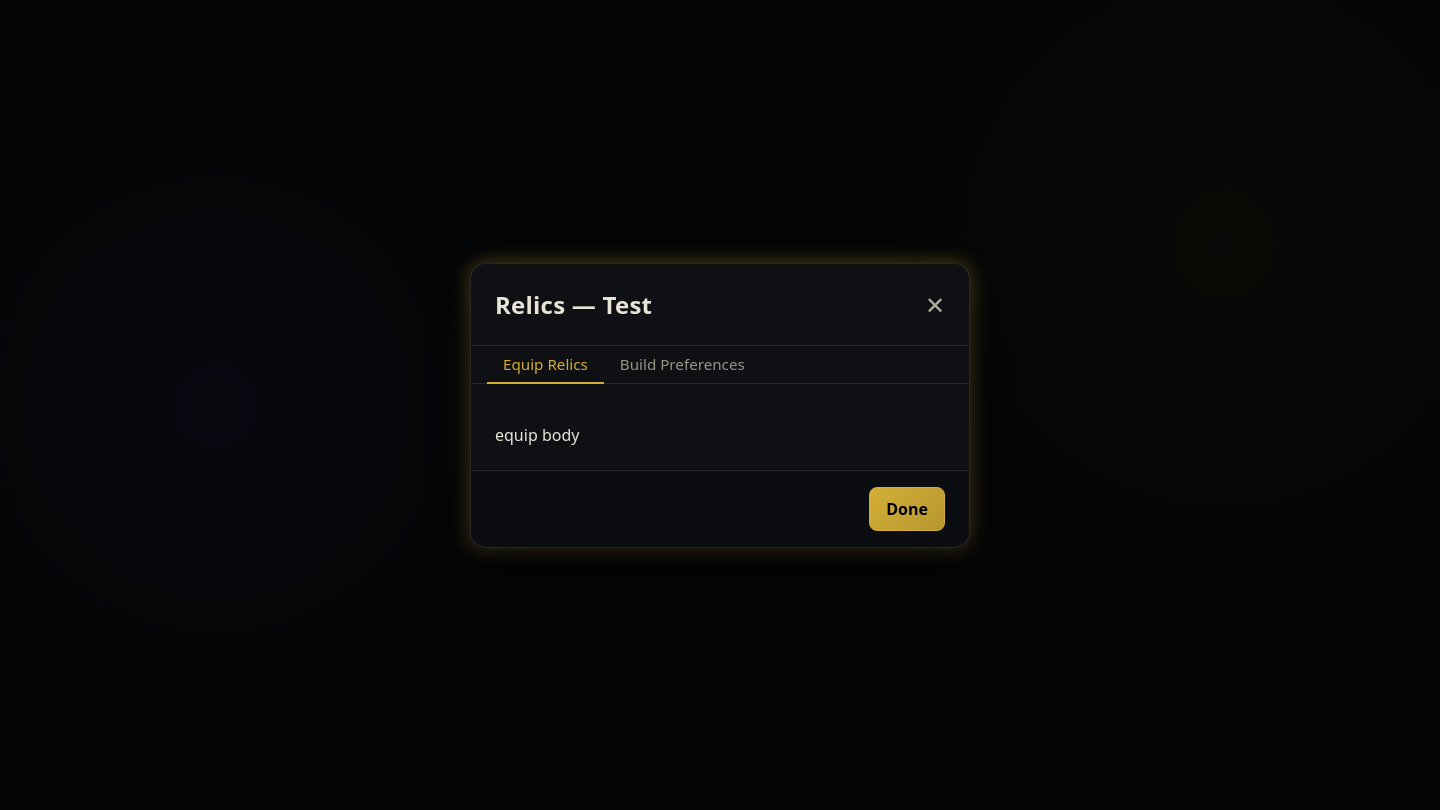
Scenario: EquipmentEditorShell › switching tabs unmounts the inactive content
Click the button "Build Preferences" at (682, 364), box [604,346,761,384]
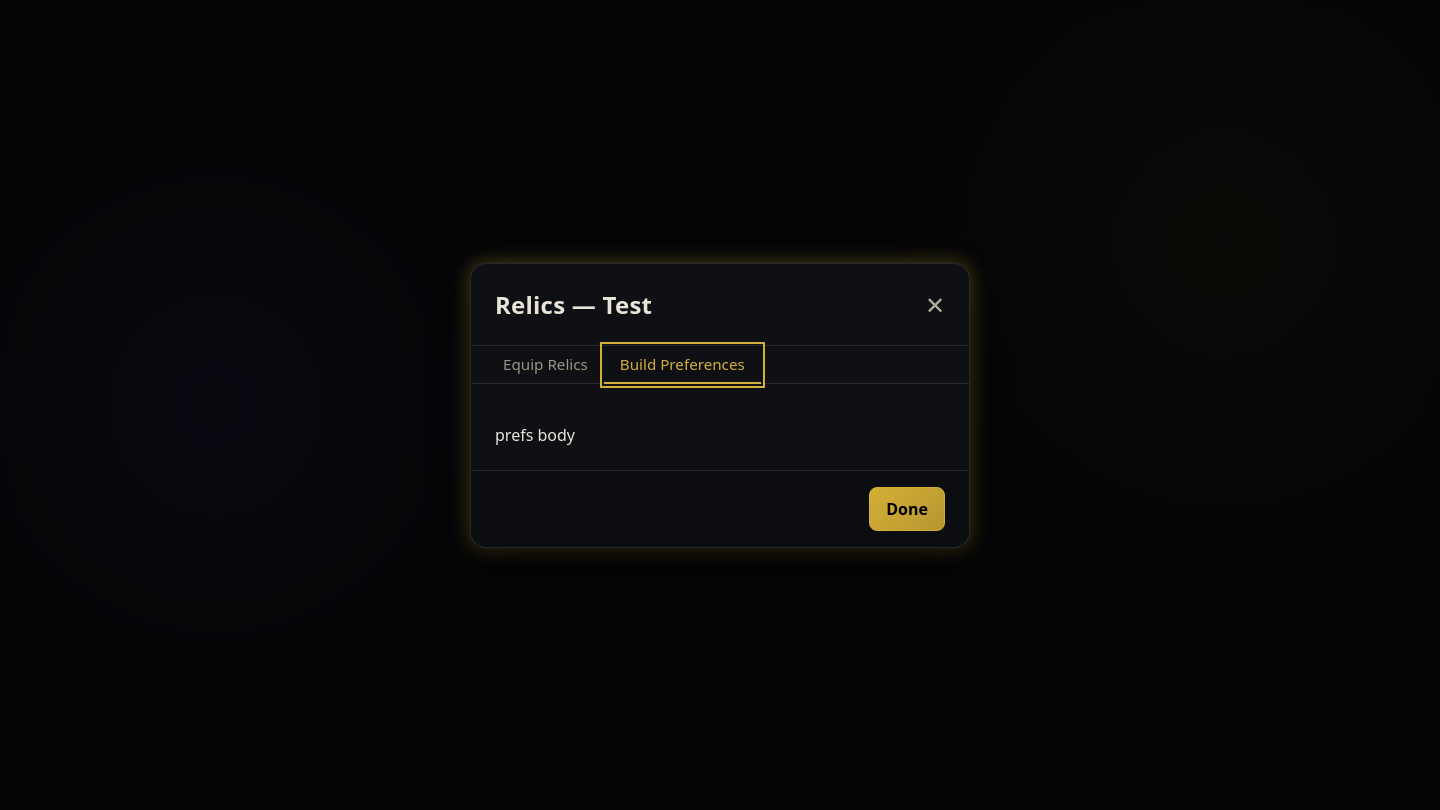
Expected: the text "prefs body" is shown, [495,424,575,446]
Expected: the text "equip body" is gone
